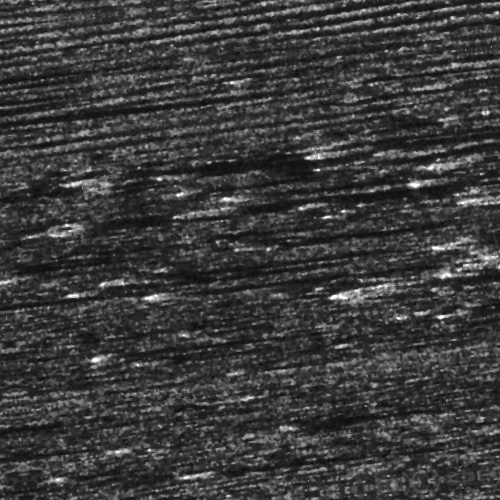object: (393, 249, 500, 276), (15, 155, 192, 168), (393, 194, 500, 203), (170, 199, 253, 210), (45, 202, 108, 213), (83, 258, 146, 269), (273, 205, 356, 212), (126, 279, 199, 286), (419, 100, 492, 107), (163, 460, 216, 467), (82, 334, 135, 341), (213, 190, 286, 195), (0, 113, 30, 124), (305, 157, 368, 162), (305, 152, 368, 157), (245, 75, 298, 80), (359, 297, 390, 304), (56, 270, 97, 275), (473, 221, 500, 228)
shadow: (104, 155, 369, 168), (0, 89, 245, 102), (212, 199, 500, 210), (115, 258, 381, 269), (163, 279, 431, 286), (189, 460, 406, 467), (76, 202, 208, 213), (109, 334, 311, 341), (314, 205, 500, 212), (0, 113, 91, 124), (77, 270, 274, 275), (336, 157, 500, 162), (0, 69, 90, 78), (472, 249, 500, 276), (336, 152, 478, 157), (249, 190, 388, 195), (0, 48, 63, 59), (0, 273, 113, 278), (375, 297, 446, 304), (450, 194, 500, 203), (0, 391, 37, 402), (0, 165, 57, 172), (271, 75, 343, 80), (455, 100, 500, 107)
